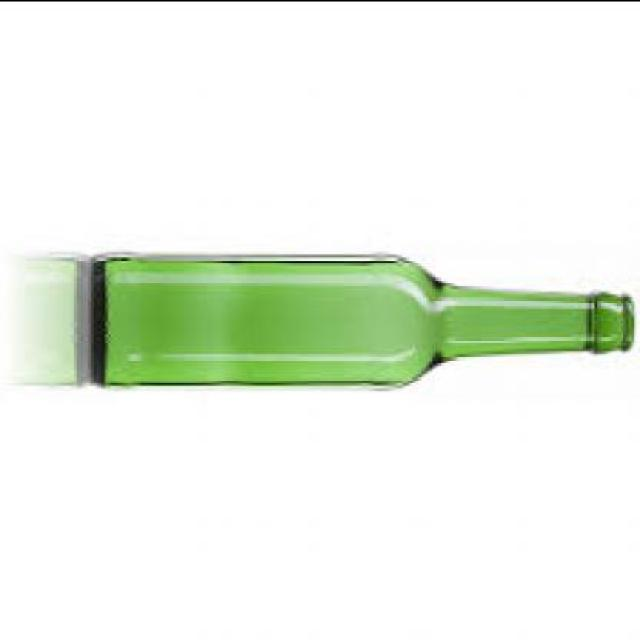GLASS: (94, 254, 637, 389)
